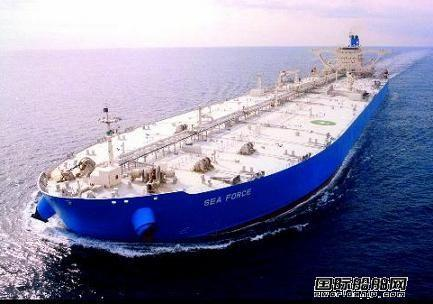Cargoship: (26, 31, 392, 254)
